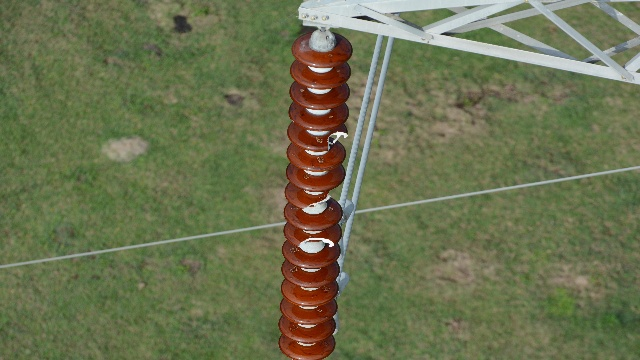broken_local: (301, 187, 334, 210), (296, 235, 337, 251), (324, 129, 351, 153)
insulator_unspecified: (278, 32, 352, 358)
